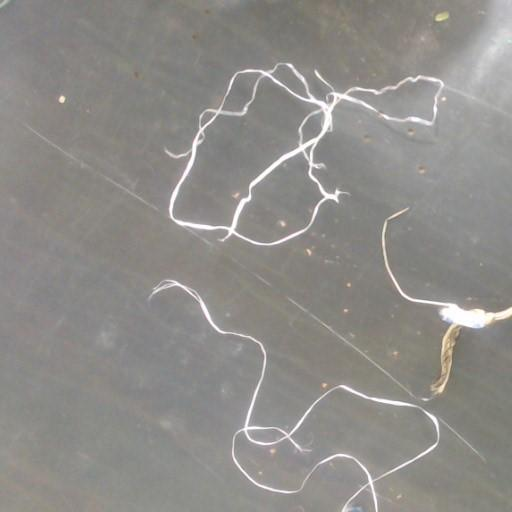conveyor belt: (376, 320, 511, 511), (173, 79, 314, 225), (237, 390, 434, 487), (238, 154, 320, 242)
thread: (151, 280, 439, 511), (166, 63, 443, 246), (381, 208, 511, 393)
